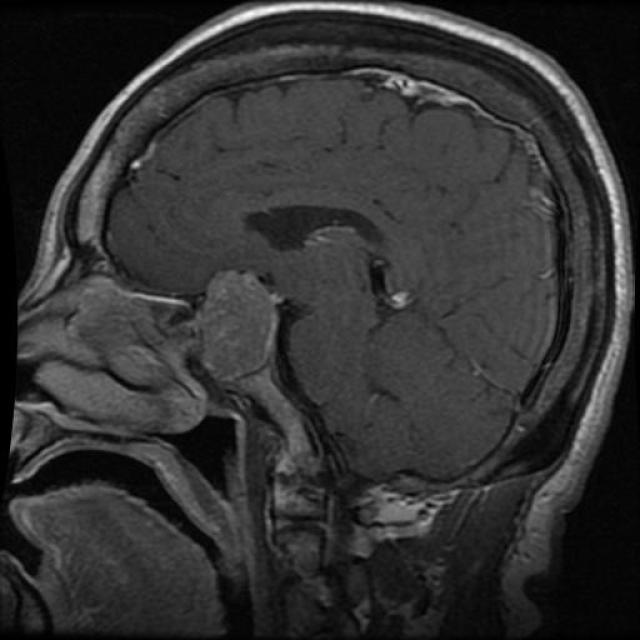pituitary: (186, 261, 292, 389)
